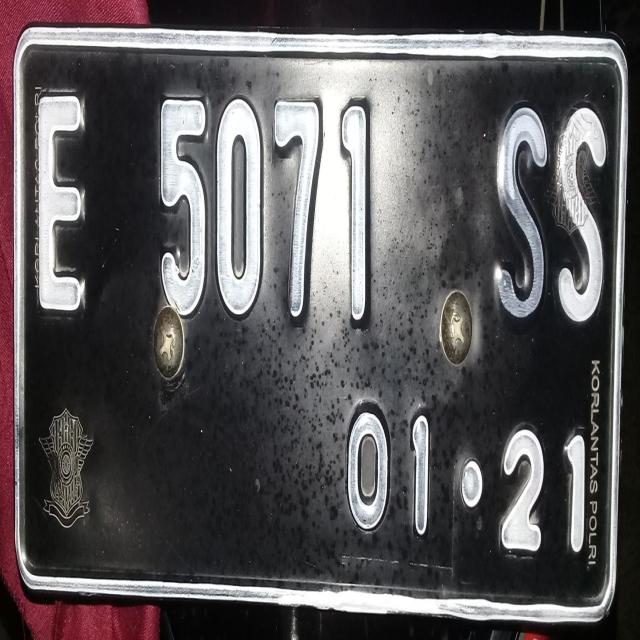plate: (11, 24, 622, 626)
